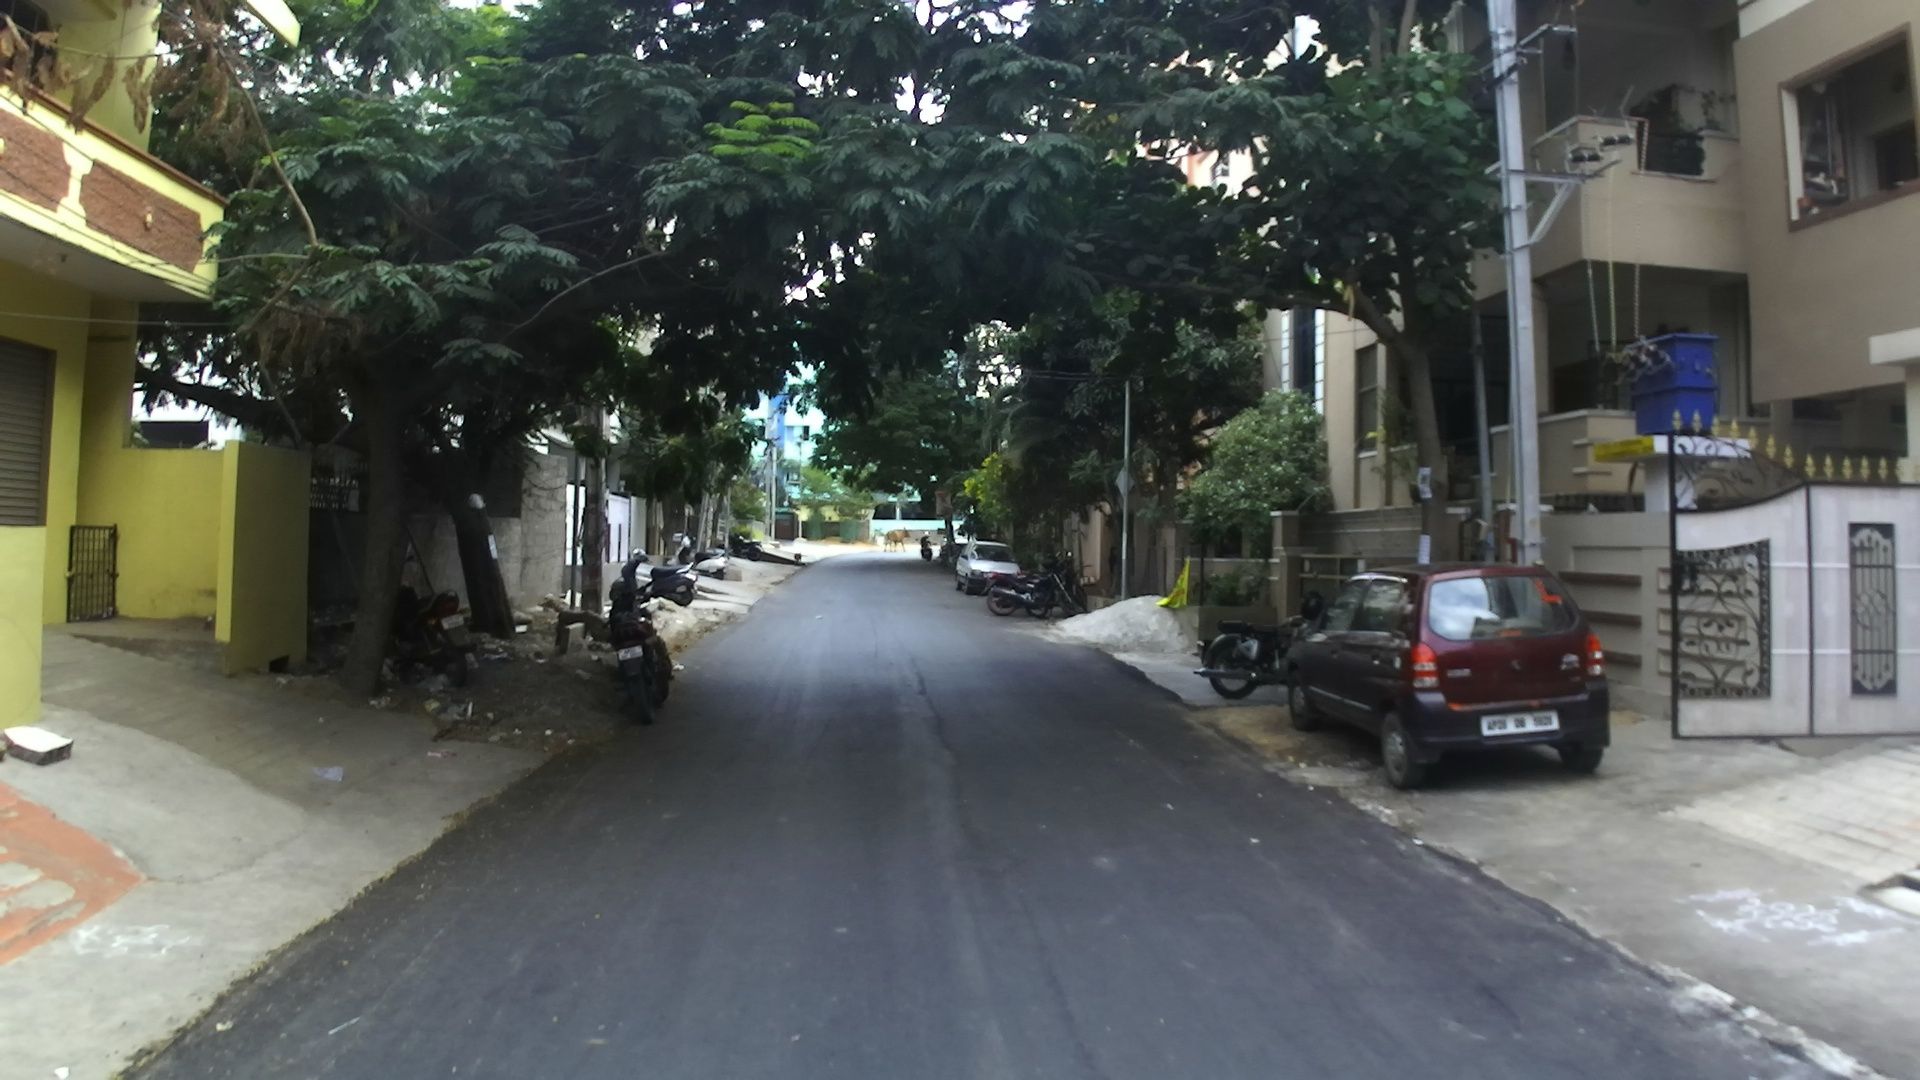vehicle: (1280, 563, 1611, 789), (603, 591, 678, 723), (1196, 618, 1309, 702), (608, 625, 674, 724), (955, 542, 1021, 593), (633, 556, 696, 607), (978, 564, 1033, 608)
